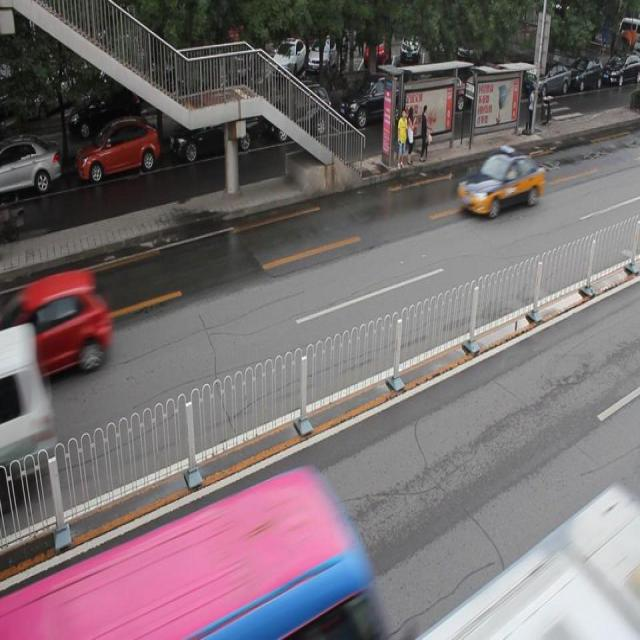car: (11, 267, 112, 378), (456, 148, 543, 215), (75, 118, 158, 182), (167, 103, 256, 160), (338, 70, 410, 128), (265, 85, 330, 140), (1, 136, 58, 196)
van: (1, 469, 378, 640), (412, 484, 640, 640)
